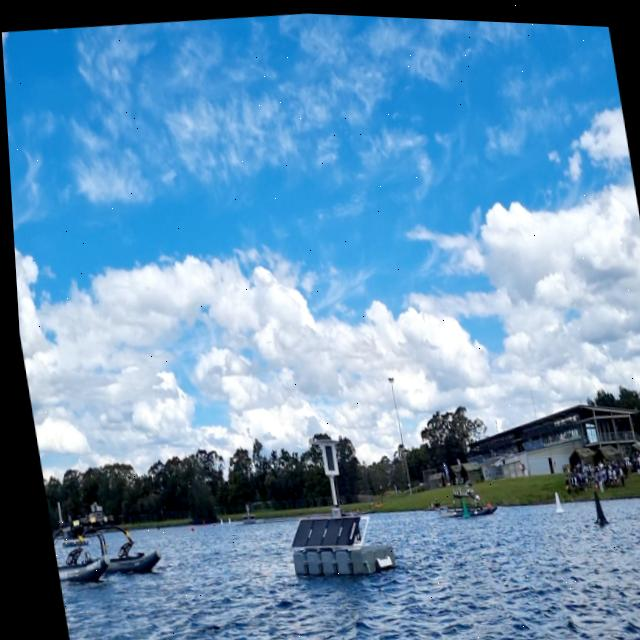led: (316, 439, 332, 471)
